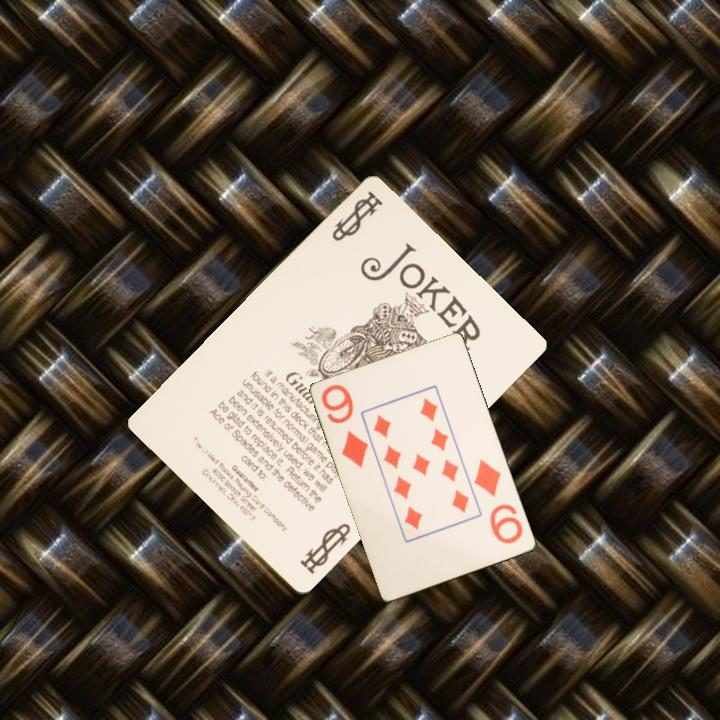9d: (471, 456, 526, 547), (318, 381, 372, 471)
JK: (296, 520, 354, 578), (328, 187, 386, 245)
